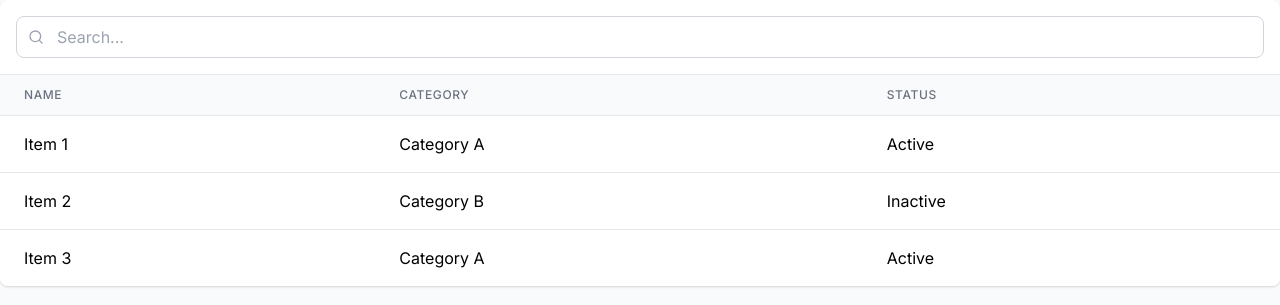
DataTable › filters data based on search input
Type "Item 1" into the field with placeholder "Search..." at (640, 37), box [16,16,1264,58]
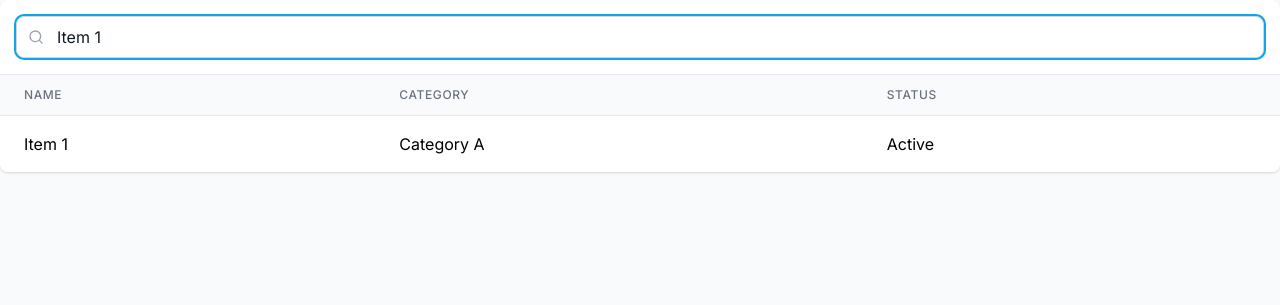
Expected: the text "Item 1" is shown, [0,116,375,172]
Expected: the text "Item 2" is gone
Expected: the text "Item 3" is gone
